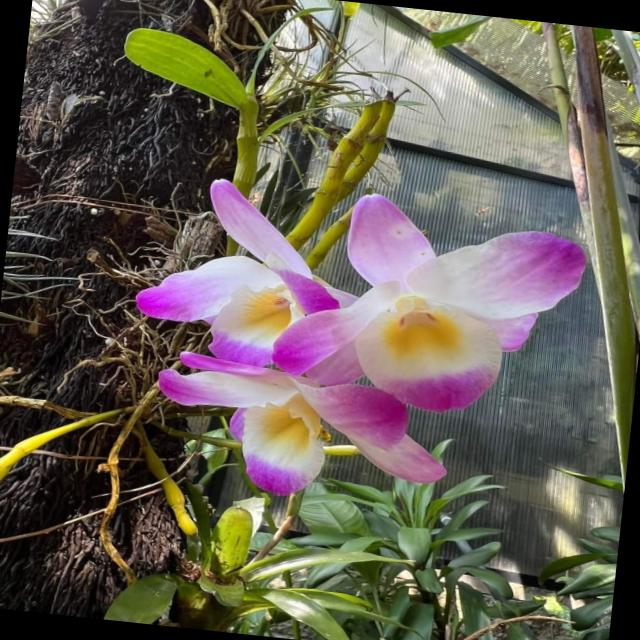flower: (276, 193, 585, 411), (136, 179, 355, 366), (157, 362, 444, 495)
leaf: (125, 27, 245, 106), (248, 544, 399, 582), (247, 587, 351, 640), (103, 571, 181, 623), (372, 5, 467, 46), (258, 103, 336, 139)
root: (340, 66, 434, 103)
stem: (287, 89, 391, 241), (0, 413, 107, 481)
